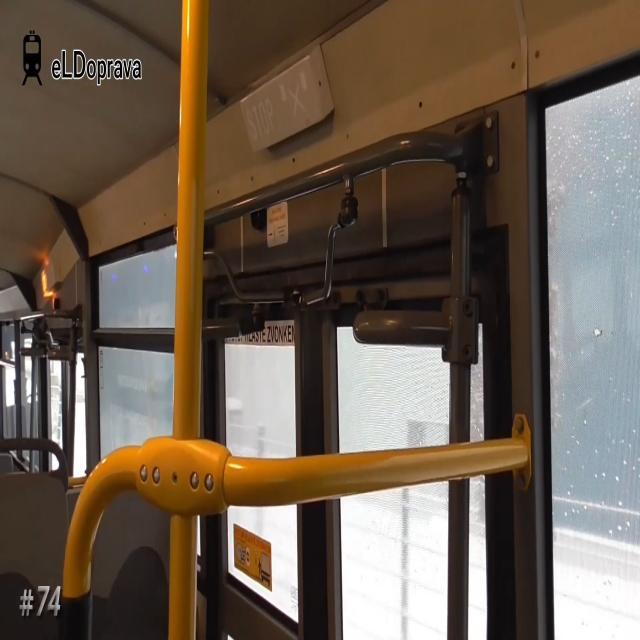bus-door: (198, 285, 490, 640)
